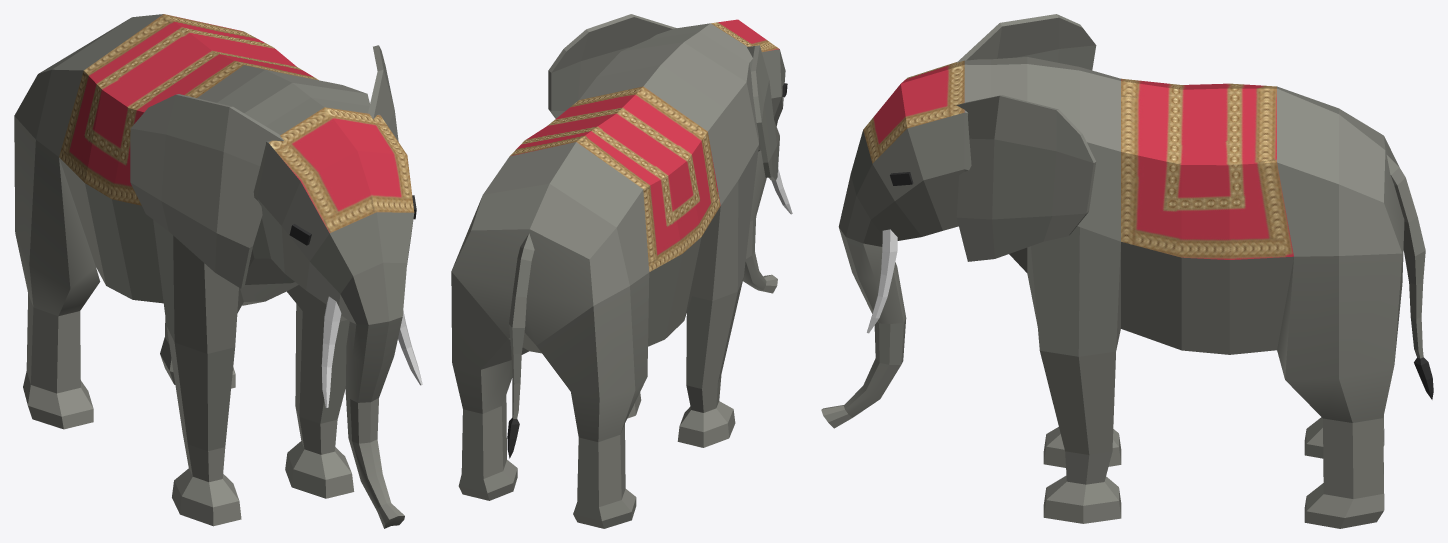
File: voi.fbx
The picture shows the model from 3 angles, left to right: view 1: azimuth 30°, elevation 25°; view 2: azimuth 150°, elevation 25°; view 3: azimuth 270°, elevation 25°; orthographic projection. The views are drawn at different scales.
Parts seen in each view (by area): view 1: voi; view 2: voi; view 3: voi.
Boxes of the visible parts, x1=… form: voi: x1=14, y1=14, x2=422, y2=528; voi: x1=451, y1=14, x2=792, y2=528; voi: x1=821, y1=14, x2=1433, y2=528.
Bounding box in the file's own units: 6.78 × 10.75 × 14.05.
Materials: 4 (1 with a texture image).
